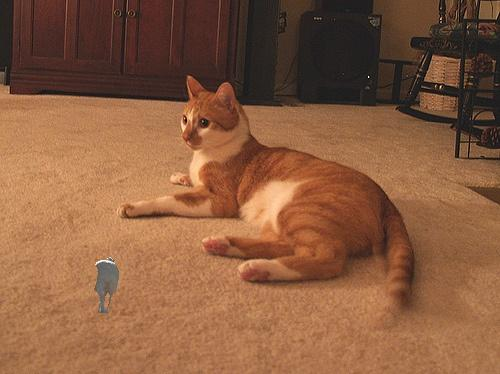tampered: (95, 258, 119, 313)
